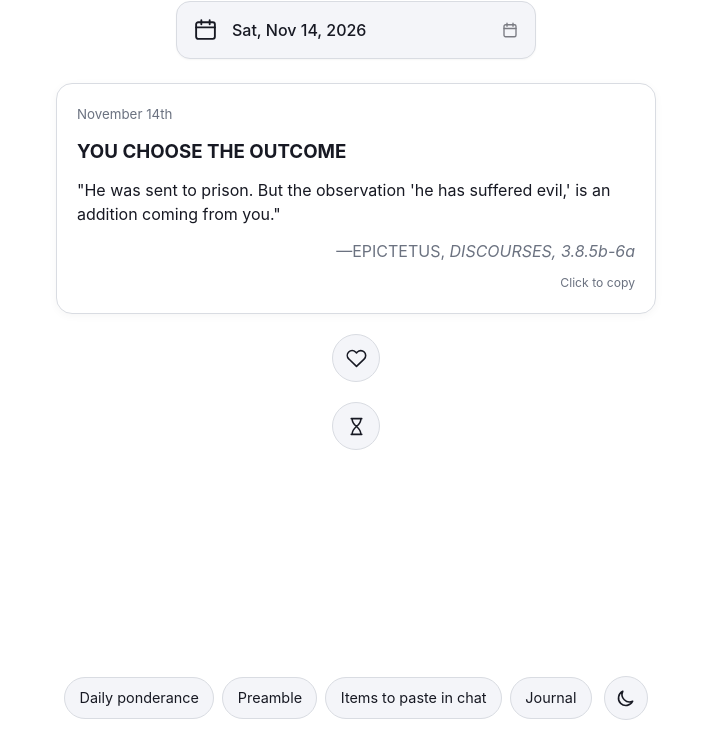
app journeys › opens the journal page with setup or sign-in state
(page scrolled)
Click the link "Journal" at (551, 698), box [510,677,592,719]
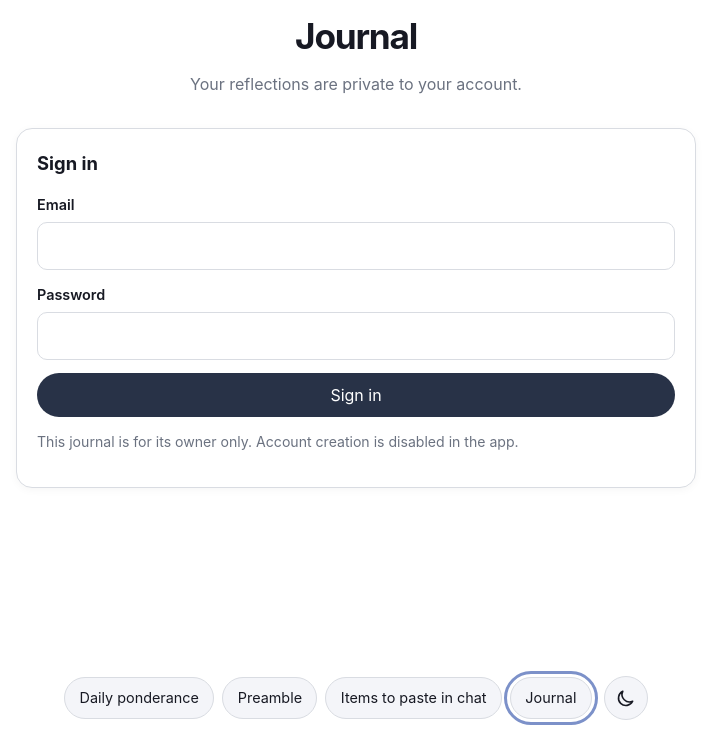
Check: the heading "Journal" is shown, box [295,15,417,57]
Check: the heading "Sign in" is shown, box [37,152,98,174]
